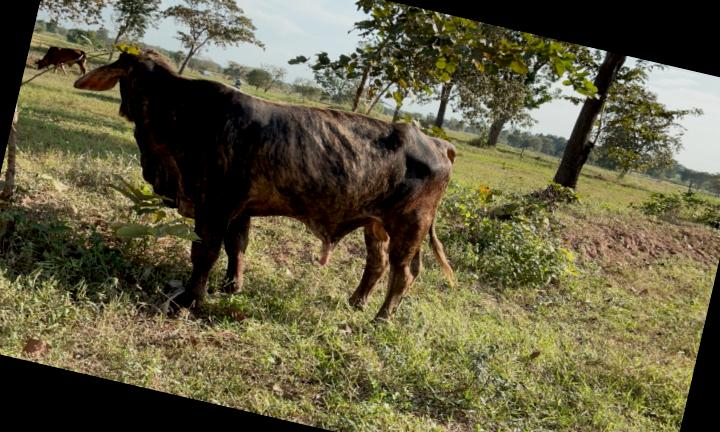Charolais: (75, 51, 455, 318)
